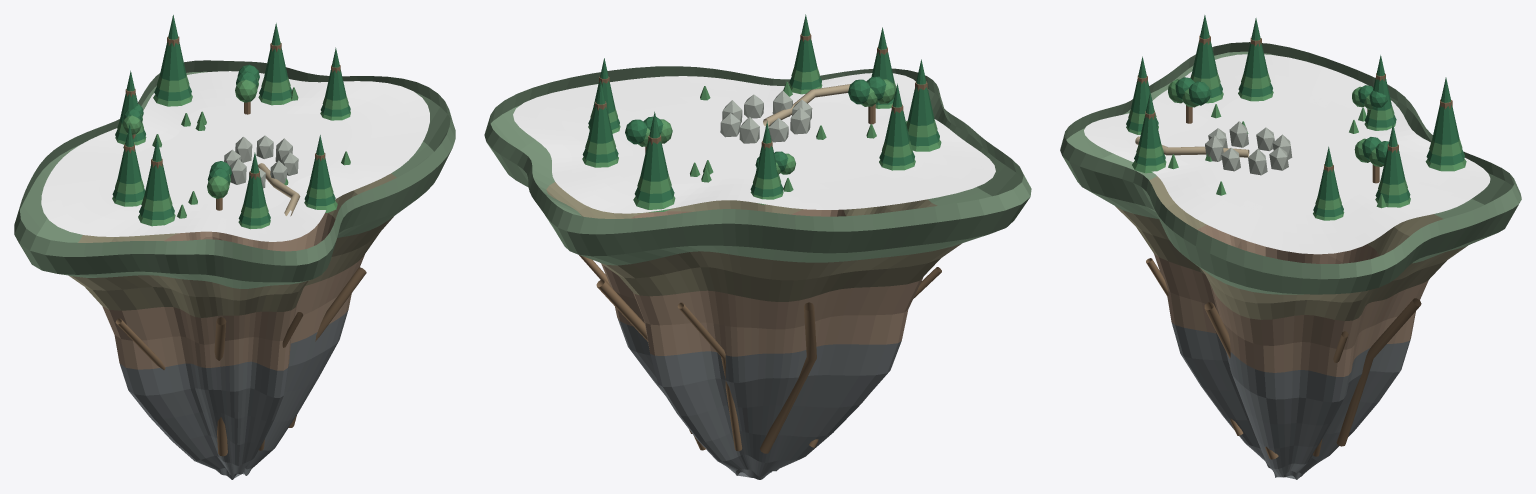
File: FI-013-Mossbarrow.glb
The picture shows the model from 3 angles, left to right: view 1: azimuth 30°, elevation 25°; view 2: azimuth 150°, elevation 25°; view 3: azimuth 270°, elevation 25°; orthographic projection. The views are drawn at different scales.
Parts seen in each view (by area): view 1: FI-013_StratifiedFloatingCliff, FI-013_BuildableTop, Whisperpine_03_Bough_03, Whisperpine_00_Bough_03, FI-013_HangingRoot_06, FI-013_HangingRoot_04, Whisperpine_04_Bough_03, Whisperpine_02_Bough_03, Whisperpine_01_Bough_03, Whisperpine_06_Bough_03, Whisperpine_05_Bough_03, ForestPath (+1 smaller); view 2: FI-013_StratifiedFloatingCliff, FI-013_BuildableTop, FI-013_HangingRoot_02, FI-013_HangingRoot_01, Whisperpine_03_Bough_03, Whisperpine_00_Bough_03, Whisperpine_04_Bough_03, Whisperpine_02_Bough_03, FI-013_HangingRoot_00, ForestPath, Whisperpine_06_Bough_03, Whisperpine_07_Bough_03 (+1 smaller); view 3: FI-013_StratifiedFloatingCliff, FI-013_BuildableTop, FI-013_HangingRoot_00, Whisperpine_03_Bough_03, Whisperpine_00_Bough_03, Whisperpine_02_Bough_03, Whisperpine_04_Bough_03, Whisperpine_06_Bough_03, FI-013_HangingRoot_06, Whisperpine_01_Bough_03, Whisperpine_05_Bough_03, ForestPath.
Part boxes in pixels (box(x1,y1,x2,y2)): FI-013_StratifiedFloatingCliff: box(14, 60, 455, 479); FI-013_BuildableTop: box(41, 71, 429, 241); Whisperpine_03_Bough_03: box(160, 15, 186, 80); Whisperpine_00_Bough_03: box(144, 138, 169, 200); FI-013_HangingRoot_06: box(288, 267, 366, 427); FI-013_HangingRoot_04: box(214, 317, 227, 456); Whisperpine_04_Bough_03: box(264, 23, 287, 82); Whisperpine_02_Bough_03: box(117, 124, 141, 183); Whisperpine_01_Bough_03: box(243, 152, 265, 208); Whisperpine_06_Bough_03: box(309, 135, 330, 189); Whisperpine_05_Bough_03: box(325, 47, 346, 100); ForestPath: box(258, 163, 300, 216); FI-013_StratifiedFloatingCliff: box(484, 66, 1031, 479); FI-013_BuildableTop: box(513, 73, 995, 213); FI-013_HangingRoot_02: box(760, 302, 816, 453); FI-013_HangingRoot_01: box(677, 302, 742, 451); Whisperpine_03_Bough_03: box(640, 111, 668, 181); Whisperpine_00_Bough_03: box(908, 59, 934, 125); Whisperpine_04_Bough_03: box(588, 80, 613, 143); Whisperpine_02_Bough_03: box(884, 83, 909, 146); FI-013_HangingRoot_00: box(596, 279, 706, 450); ForestPath: box(763, 84, 850, 126); Whisperpine_06_Bough_03: box(794, 14, 817, 72); Whisperpine_07_Bough_03: box(755, 121, 778, 179); FI-013_StratifiedFloatingCliff: box(1060, 42, 1521, 479); FI-013_BuildableTop: box(1084, 54, 1490, 254); FI-013_HangingRoot_00: box(1336, 298, 1421, 446); Whisperpine_03_Bough_03: box(1432, 77, 1459, 144); Whisperpine_00_Bough_03: box(1192, 15, 1217, 78); Whisperpine_02_Bough_03: box(1243, 18, 1267, 78); Whisperpine_04_Bough_03: box(1381, 123, 1404, 184); Whisperpine_06_Bough_03: box(1139, 93, 1160, 148); FI-013_HangingRoot_06: box(1204, 302, 1278, 459); Whisperpine_01_Bough_03: box(1131, 56, 1153, 113); Whisperpine_05_Bough_03: box(1318, 146, 1339, 200); ForestPath: box(1135, 136, 1249, 157).
Size of the model in its own units: 14.94 by 12.45 by 12.83.
